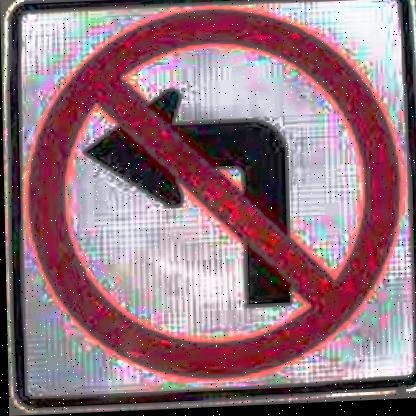No left turn: (25, 6, 414, 393)
